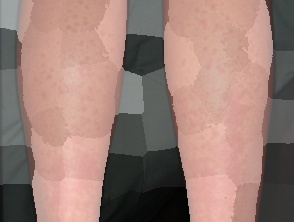SJS-TEN: (157, 0, 289, 222), (13, 0, 137, 222)
